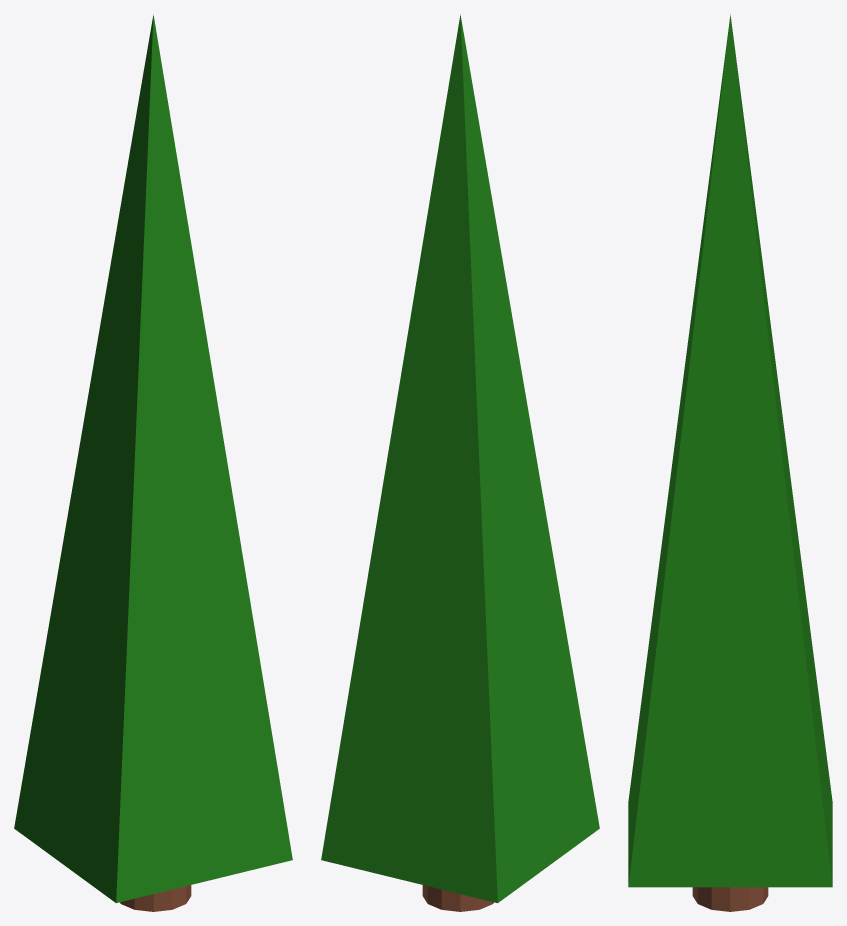
File: Tree_19_summer.fbx
3 renders of one model, left to right at view 1: azimuth 30°, elevation 25°; view 2: azimuth 150°, elevation 25°; view 3: azimuth 270°, elevation 25°, orthographic.
Visible parts, largest first — view 1: Tree_19_summer; view 2: Tree_19_summer; view 3: Tree_19_summer.
Boxes of the visible parts, x1,y1,x2,y2 form: Tree_19_summer: (14, 14, 292, 911); Tree_19_summer: (321, 14, 599, 911); Tree_19_summer: (628, 14, 832, 911).
Size of the model in its own units: 59.69 by 285 by 59.69.
